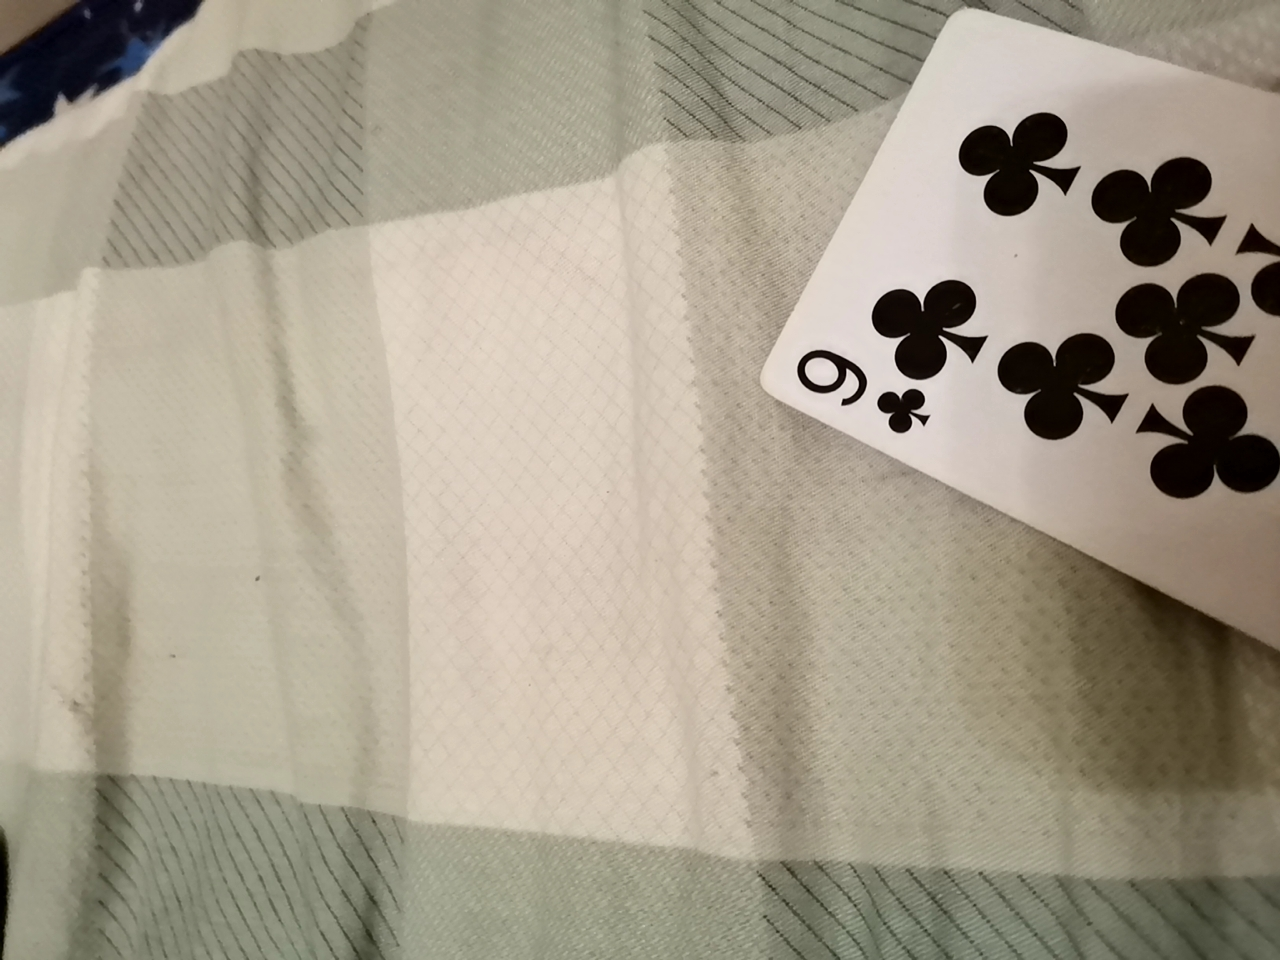mh 9: (745, 7, 1274, 698)
